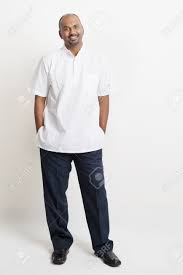person: (29, 10, 134, 269)
